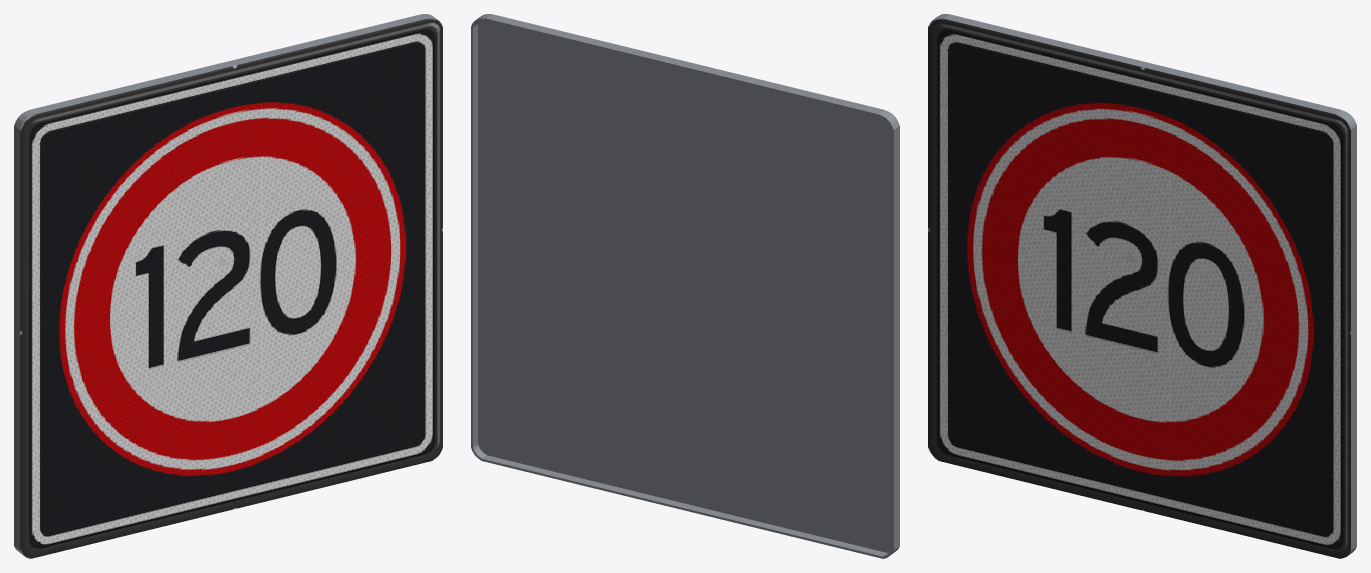
3 views of the same model, side by side, from view 1: azimuth 30°, elevation 25°; view 2: azimuth 150°, elevation 25°; view 3: azimuth 330°, elevation 25° (orthographic).
Parts seen in each view (by area): view 1: cat_a3fd2bed4c7bb963; view 2: cat_a3fd2bed4c7bb963; view 3: cat_a3fd2bed4c7bb963.
Part boxes in pixels (x1=…): cat_a3fd2bed4c7bb963: x1=14, y1=14, x2=442, y2=558; cat_a3fd2bed4c7bb963: x1=471, y1=14, x2=899, y2=558; cat_a3fd2bed4c7bb963: x1=928, y1=14, x2=1356, y2=558.
Size of the model in its own units: 0.6 by 0.015 by 0.6014.
2 materials, 1 textured.
